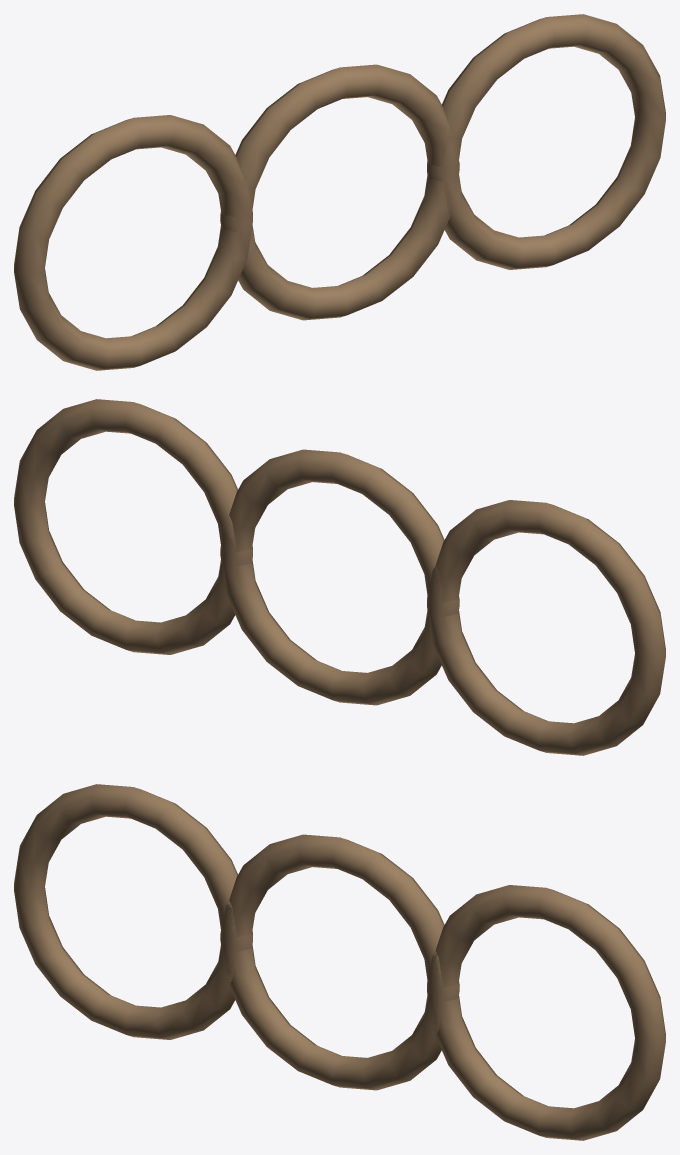
3 renders of one model, top to bottom at view 1: azimuth 30°, elevation 25°; view 2: azimuth 150°, elevation 25°; view 3: azimuth 330°, elevation 25°, orthographic.
Visible parts, largest first — view 1: LOD1_BIKE_RACK_5_Hoop_01, LOD1_BIKE_RACK_5_Hoop_03, LOD1_BIKE_RACK_5_Hoop_02; view 2: LOD1_BIKE_RACK_5_Hoop_01, LOD1_BIKE_RACK_5_Hoop_03, LOD1_BIKE_RACK_5_Hoop_02; view 3: LOD1_BIKE_RACK_5_Hoop_03, LOD1_BIKE_RACK_5_Hoop_01, LOD1_BIKE_RACK_5_Hoop_02.
Part boxes in pixels (<box>): LOD1_BIKE_RACK_5_Hoop_01: <box>14,115,252,370</box>; LOD1_BIKE_RACK_5_Hoop_03: <box>427,14,665,269</box>; LOD1_BIKE_RACK_5_Hoop_02: <box>220,64,459,320</box>; LOD1_BIKE_RACK_5_Hoop_01: <box>427,500,665,755</box>; LOD1_BIKE_RACK_5_Hoop_03: <box>14,399,252,654</box>; LOD1_BIKE_RACK_5_Hoop_02: <box>220,449,459,705</box>; LOD1_BIKE_RACK_5_Hoop_03: <box>427,885,665,1140</box>; LOD1_BIKE_RACK_5_Hoop_01: <box>14,784,252,1039</box>; LOD1_BIKE_RACK_5_Hoop_02: <box>220,834,459,1090</box>.
Size of what is drawn, in the model's own units: 3 by 1.1 by 0.1212.
